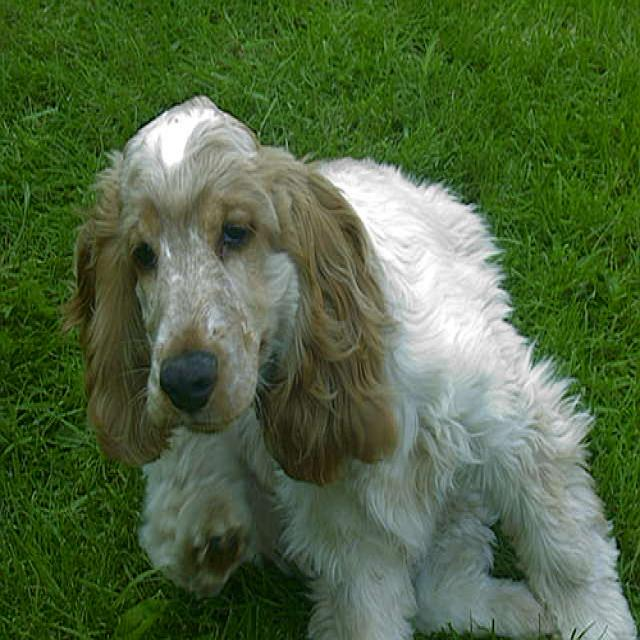dog: (74, 94, 384, 479)
